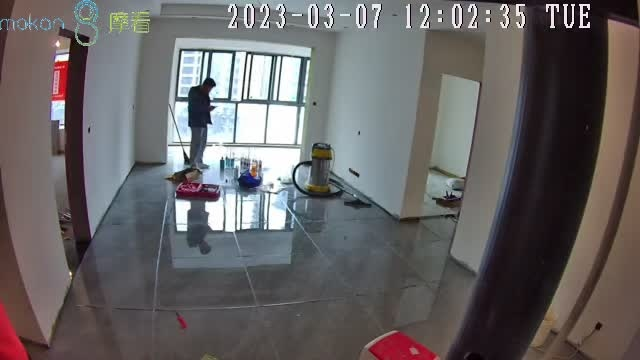people: (188, 78, 217, 171)
window: (173, 47, 309, 149)
